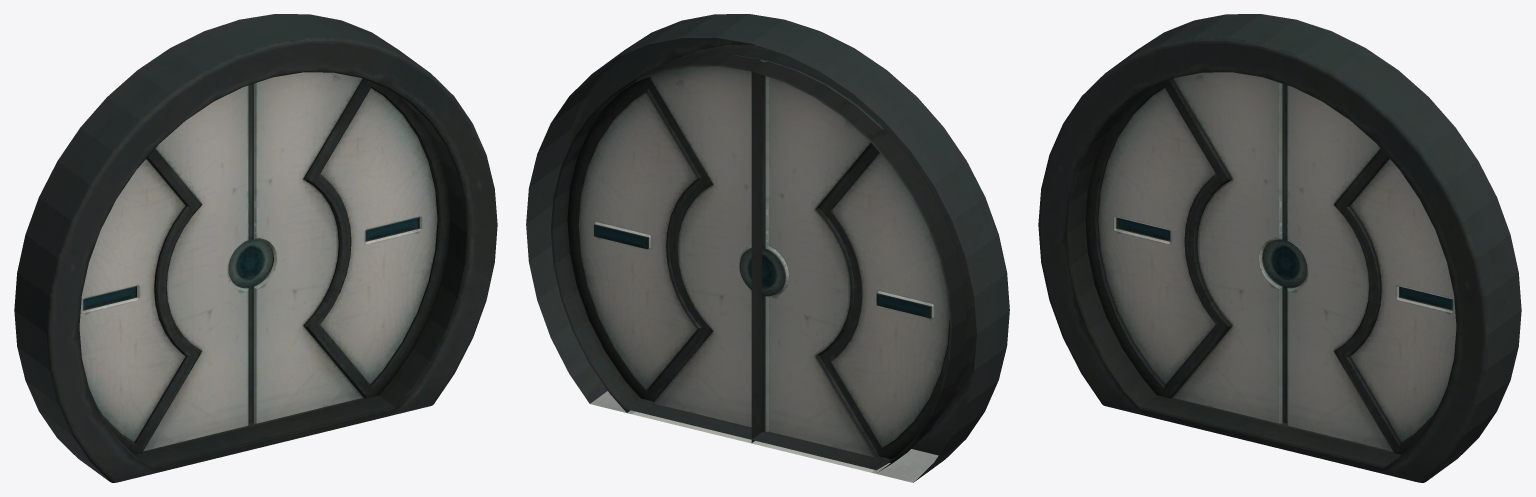
File: door.obj
The picture shows the model from 3 angles, left to right: view 1: azimuth 30°, elevation 25°; view 2: azimuth 150°, elevation 25°; view 3: azimuth 330°, elevation 25°; orthographic projection.
Parts seen in each view (by area): view 1: Portal_Door2, Portal_Door2.002, Portal_Door2.001; view 2: Portal_Door2, Portal_Door2.002, Portal_Door2.001; view 3: Portal_Door2, Portal_Door2.001, Portal_Door2.002.
Boxes of the visible parts, x1,y1,x2,y2 form: Portal_Door2: [14, 14, 497, 482]; Portal_Door2.002: [243, 72, 437, 423]; Portal_Door2.001: [79, 85, 273, 471]; Portal_Door2: [526, 14, 1009, 482]; Portal_Door2.002: [578, 61, 762, 442]; Portal_Door2.001: [762, 75, 949, 457]; Portal_Door2: [1038, 14, 1521, 482]; Portal_Door2.001: [1097, 72, 1285, 444]; Portal_Door2.002: [1232, 71, 1456, 453].
Bounding box in the file's own units: 128 × 108 × 16.92.
